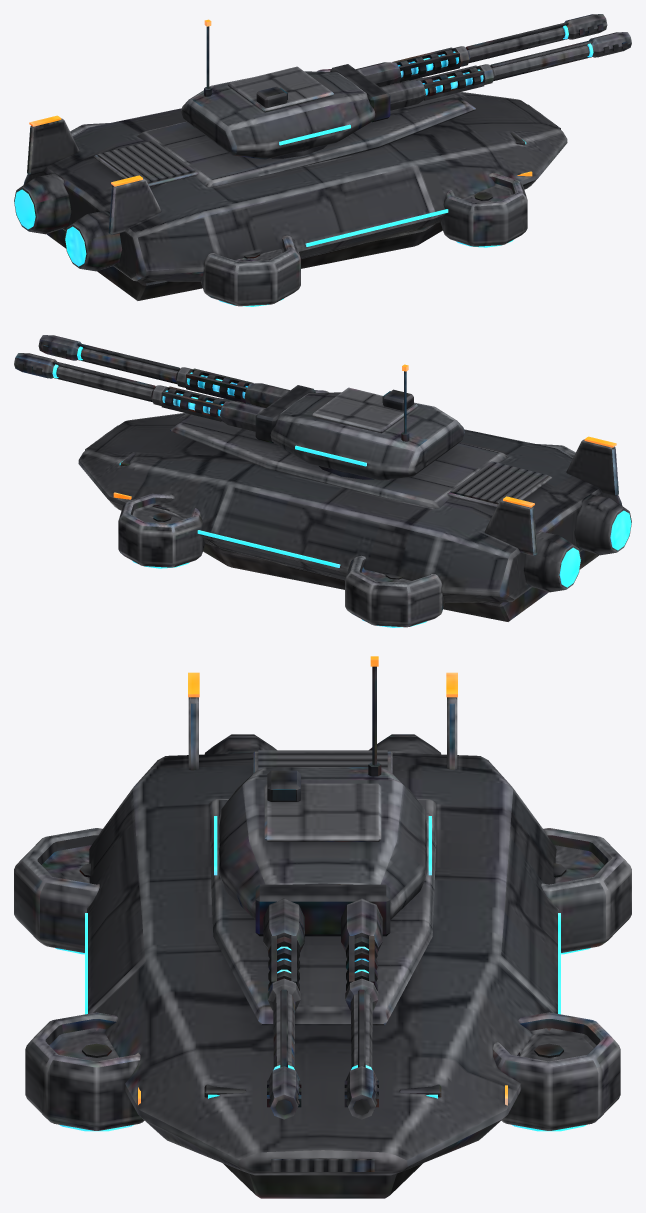
The model's file is skimmer.glb.
The picture shows the model from 3 angles, top to bottom: view 1: azimuth 30°, elevation 25°; view 2: azimuth 150°, elevation 25°; view 3: azimuth 270°, elevation 25°; orthographic projection. The views are drawn at different scales.
Parts seen in each view (by area): view 1: Hull, Turret; view 2: Hull, Turret; view 3: Hull, Turret.
Boxes of the visible parts, <box> form: Hull: <box>14,69,567,306</box>; Turret: <box>181,14,631,159</box>; Hull: <box>78,390,631,627</box>; Turret: <box>14,335,464,480</box>; Hull: <box>14,672,631,1198</box>; Turret: <box>214,656,431,1119</box>.
Bounding box in the file's own units: 7.99 × 2.77 × 4.78.
1 material, 1 textured.
